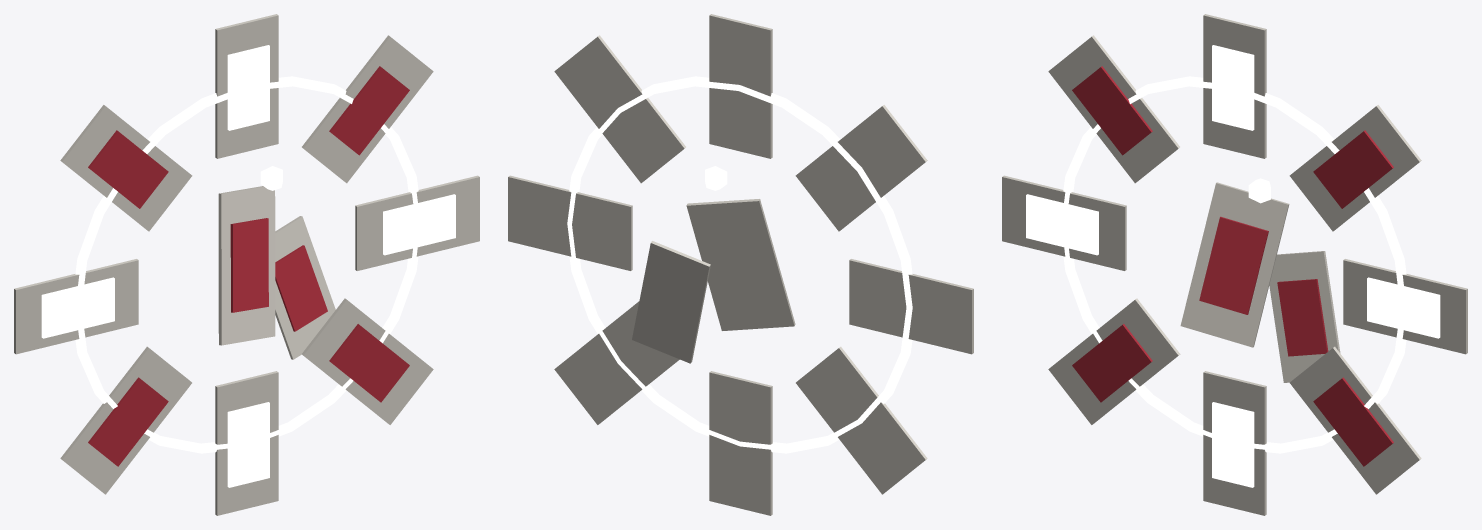
File: suzu_p2.glb
The picture shows the model from 3 angles, left to right: view 1: azimuth 30°, elevation 25°; view 2: azimuth 150°, elevation 25°; view 3: azimuth 330°, elevation 25°; orthographic projection.
Visible parts, largest first — view 1: p2_sealRing_body, p2_sealRing_glow, p2_seals_body; view 2: p2_sealRing_body, p2_seals_body, p2_sealRing_glow; view 3: p2_sealRing_body, p2_sealRing_glow, p2_seals_body.
Part boxes in pixels (box(x1,y1,x2,y2)): p2_sealRing_body: box(14, 14, 479, 515); p2_sealRing_glow: box(41, 45, 455, 487); p2_seals_body: box(218, 186, 335, 359); p2_sealRing_body: box(508, 14, 973, 515); p2_seals_body: box(632, 199, 795, 363); p2_sealRing_glow: box(567, 76, 912, 453); p2_sealRing_body: box(1002, 14, 1467, 515); p2_sealRing_glow: box(1026, 45, 1440, 487); p2_seals_body: box(1180, 182, 1340, 382).
Size of the model in its own units: 0.544 by 0.544 by 0.0672.
